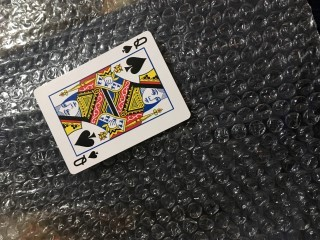QueenOfSpades: (34, 31, 191, 174)
